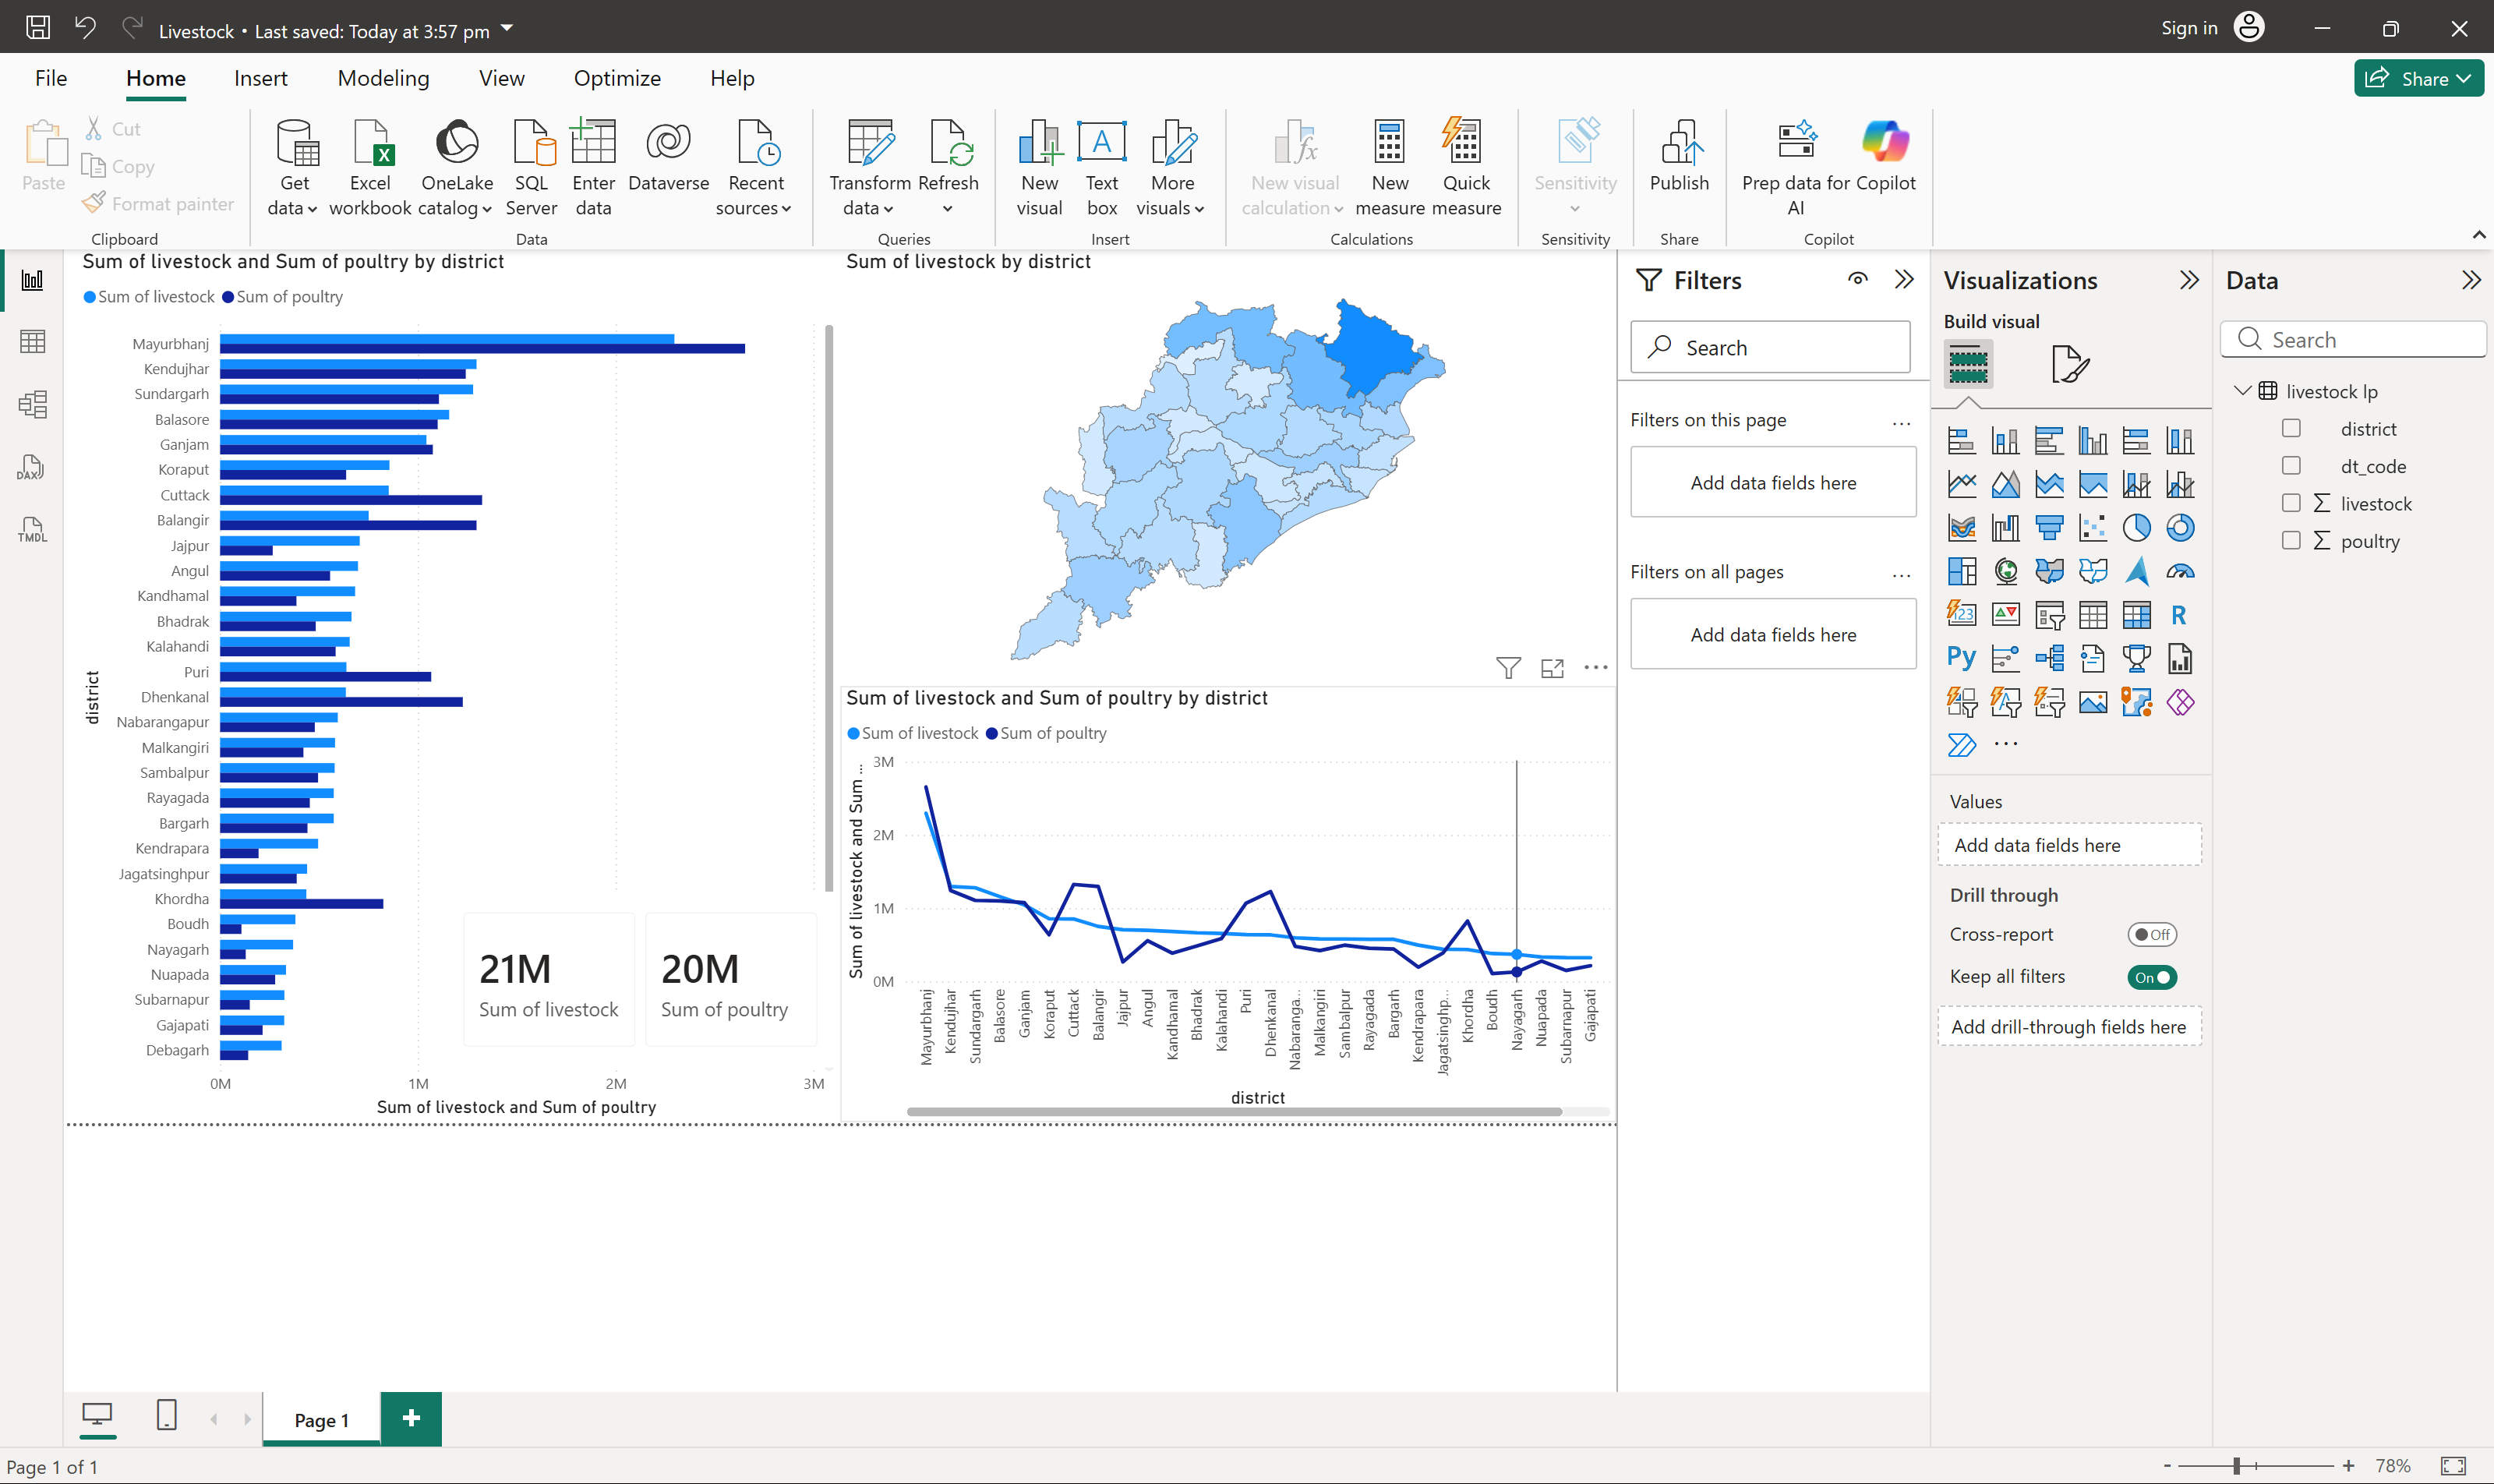

Layout of this report page (visuals, bound fields, positions):
{"tool":"powerbi","page":{"name":"Page 1","canvas":[1280,720],"ordinal":0},"visuals":[{"type":"clusteredBarChart","fields":{"Category":["livestock lp.district"],"Y":["Sum(livestock lp.livestock)","Sum(livestock lp.poultry)"]},"box":[10.3,0,629.7,719.7],"z":0},{"type":"cardVisual","fields":{"Data":["Sum(livestock lp.livestock)","Sum(livestock lp.poultry)"]},"box":[312.3,529.5,327.7,145.2],"z":1},{"type":"shapeMap","fields":{"Category":["livestock lp.district"],"Value":["Sum(livestock lp.livestock)"]},"box":[640,0,640,359.8],"z":2},{"type":"lineChart","fields":{"Y":["Sum(livestock lp.livestock)","Sum(livestock lp.poultry)"],"Category":["livestock lp.district"]},"box":[640,360,640,360],"z":3}]}

Visuals, with their boxes on the page's 1280x720 design canvas (x1, y1, x2, y2). These are canvas units, not pixel positions in the 2494x1484 screenshot, which may show the page scaled, cropped or inside an application window:
clusteredBarChart - livestock lp.district x Sum(livestock lp.livestock): [x1=10, y1=0, x2=640, y2=720]
cardVisual - Sum(livestock lp.livestock) x Sum(livestock lp.poultry): [x1=312, y1=530, x2=640, y2=675]
shapeMap - livestock lp.district x Sum(livestock lp.livestock): [x1=640, y1=0, x2=1280, y2=360]
lineChart - Sum(livestock lp.livestock) x Sum(livestock lp.poultry): [x1=640, y1=360, x2=1280, y2=720]
